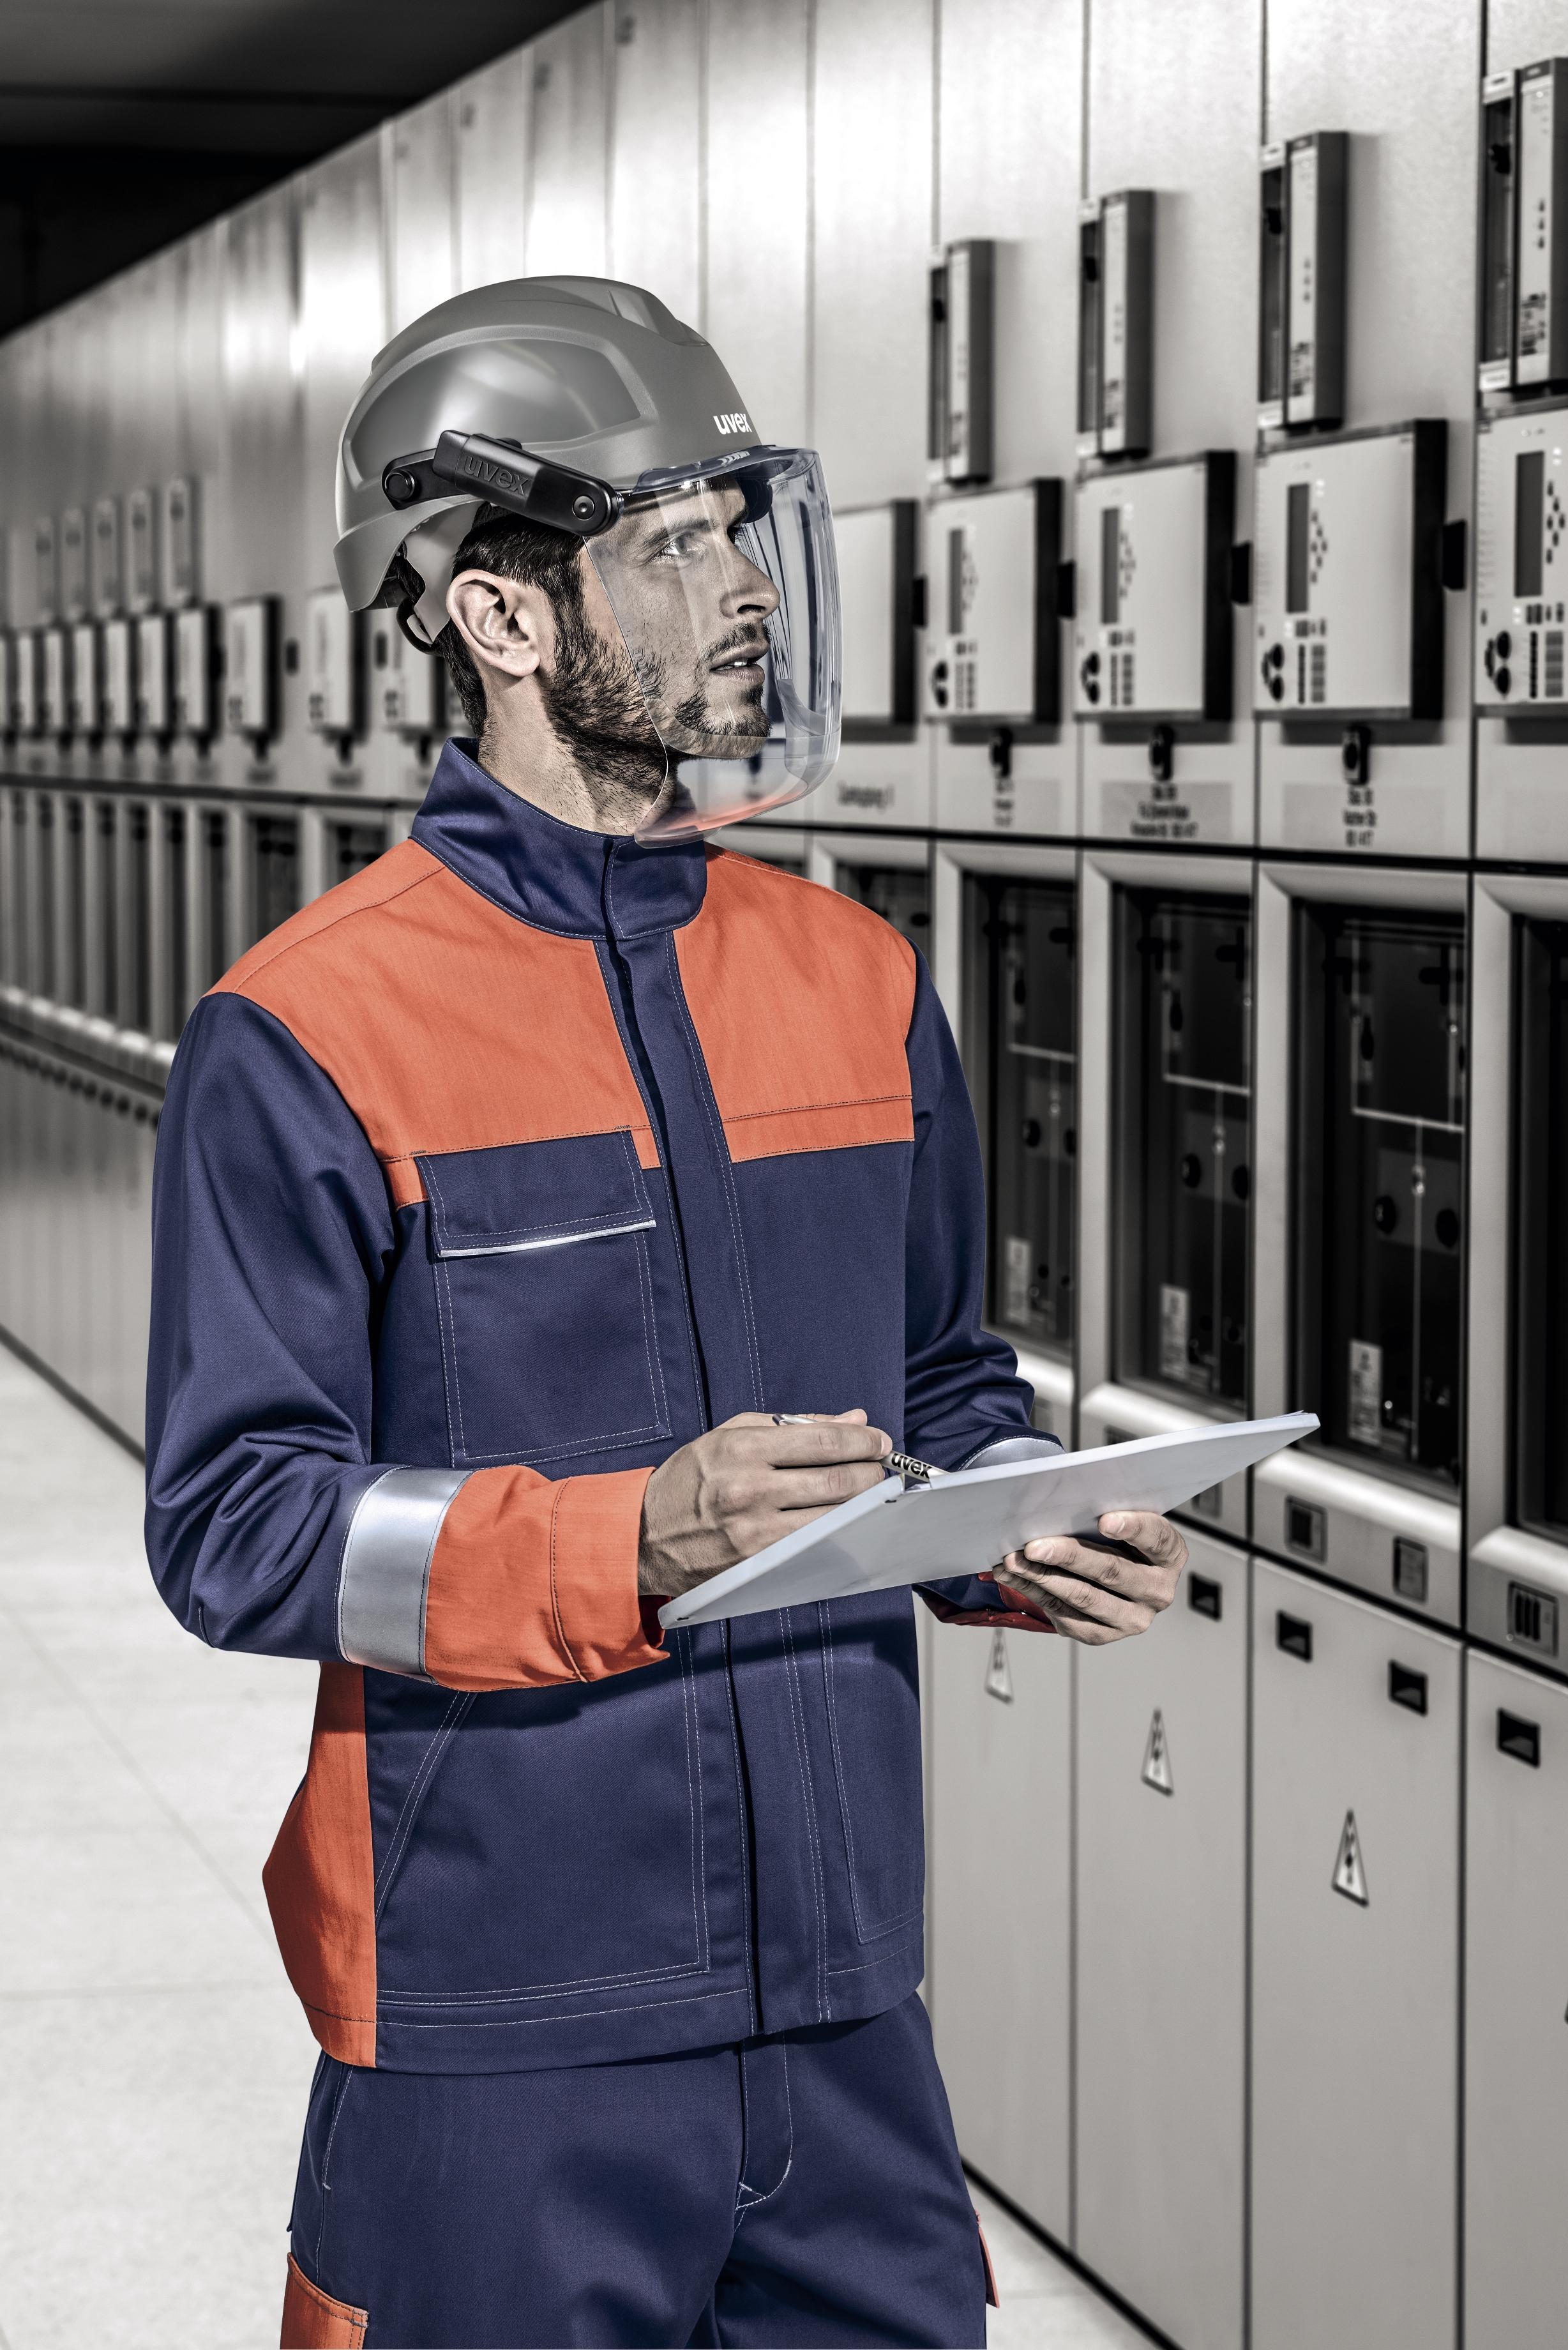helmet: (297, 271, 819, 651)
